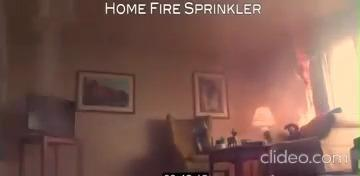fire: (290, 56, 317, 128)
